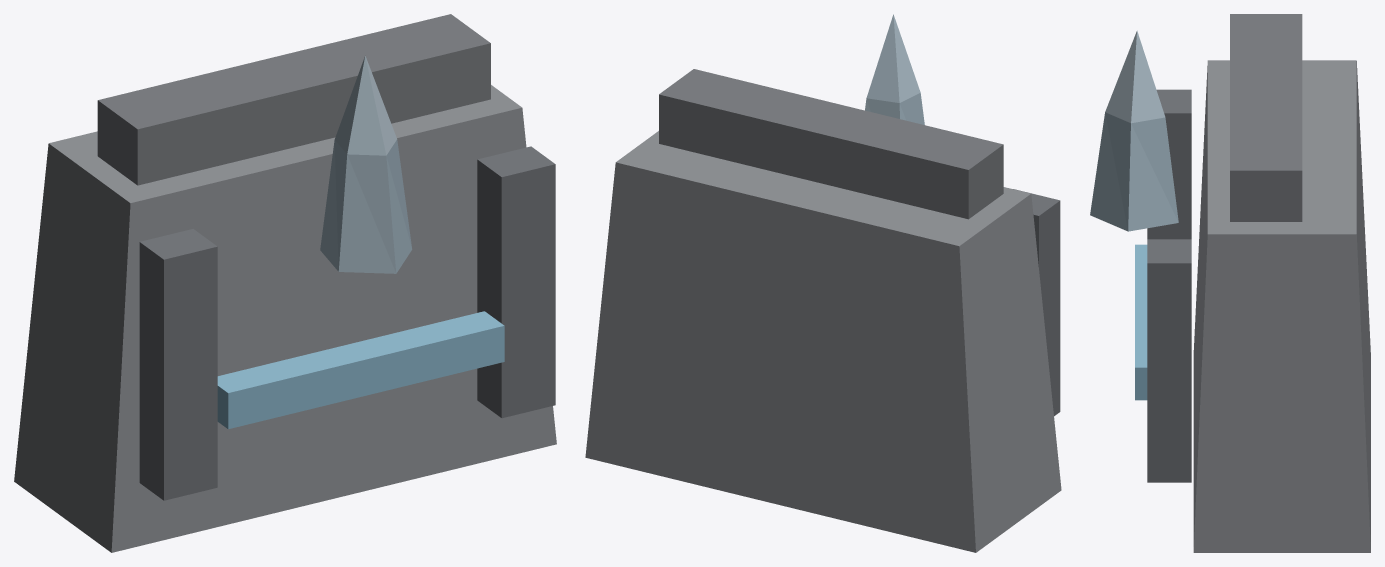
The model's file is Ore_Pouch.glb.
3 views of the same model, side by side, from view 1: azimuth 30°, elevation 25°; view 2: azimuth 150°, elevation 25°; view 3: azimuth 270°, elevation 25° (orthographic). The views are drawn at different scales.
Parts seen in each view (by area): view 1: Ore_Pouch; view 2: Ore_Pouch; view 3: Ore_Pouch.
Part boxes in pixels (x1,y1,x2,y2): Ore_Pouch: [14, 14, 556, 552]; Ore_Pouch: [585, 14, 1061, 552]; Ore_Pouch: [1090, 14, 1370, 552].
Bounding box in the file's own units: 0.58 × 0.58 × 0.3484.
